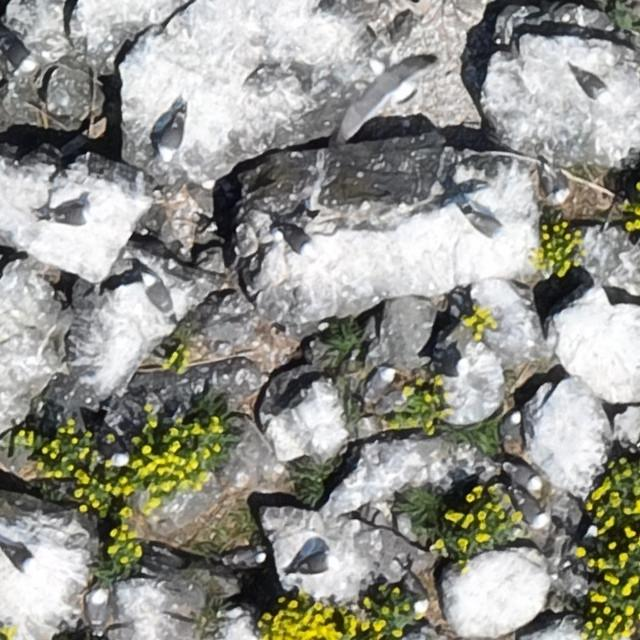F: (348, 54, 443, 136)
umineko: (507, 484, 553, 536), (143, 272, 181, 324), (537, 163, 574, 207), (281, 227, 314, 253), (505, 465, 540, 487), (469, 215, 502, 238), (577, 73, 605, 99), (4, 546, 34, 570), (366, 368, 393, 394), (297, 553, 332, 572), (227, 549, 263, 567), (160, 124, 180, 156), (88, 589, 104, 625), (501, 411, 521, 439), (110, 436, 128, 465), (56, 208, 88, 224)
